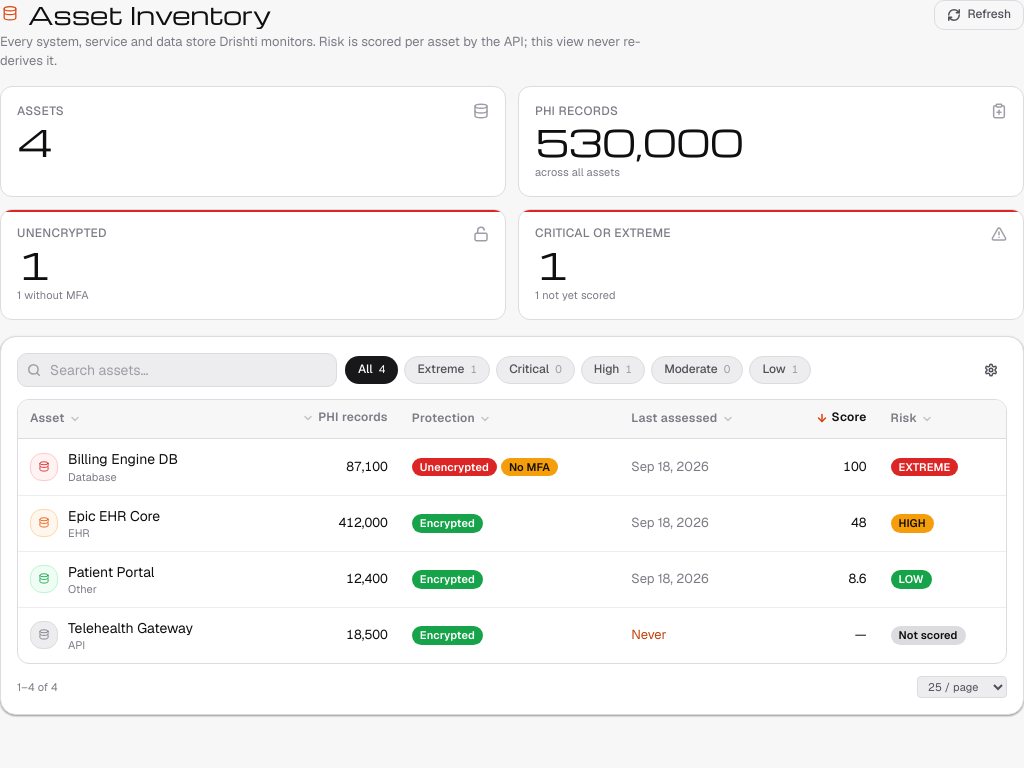
Test: Asset detail › shows the vendors that touch the asset, with their BAA state
The image size is (1024, 768).
Expected: the text "Billing Engine DB" is shown, [68,450,178,470]
Click the button with test id "row-1" at (512, 467), box [18,440,1006,495]
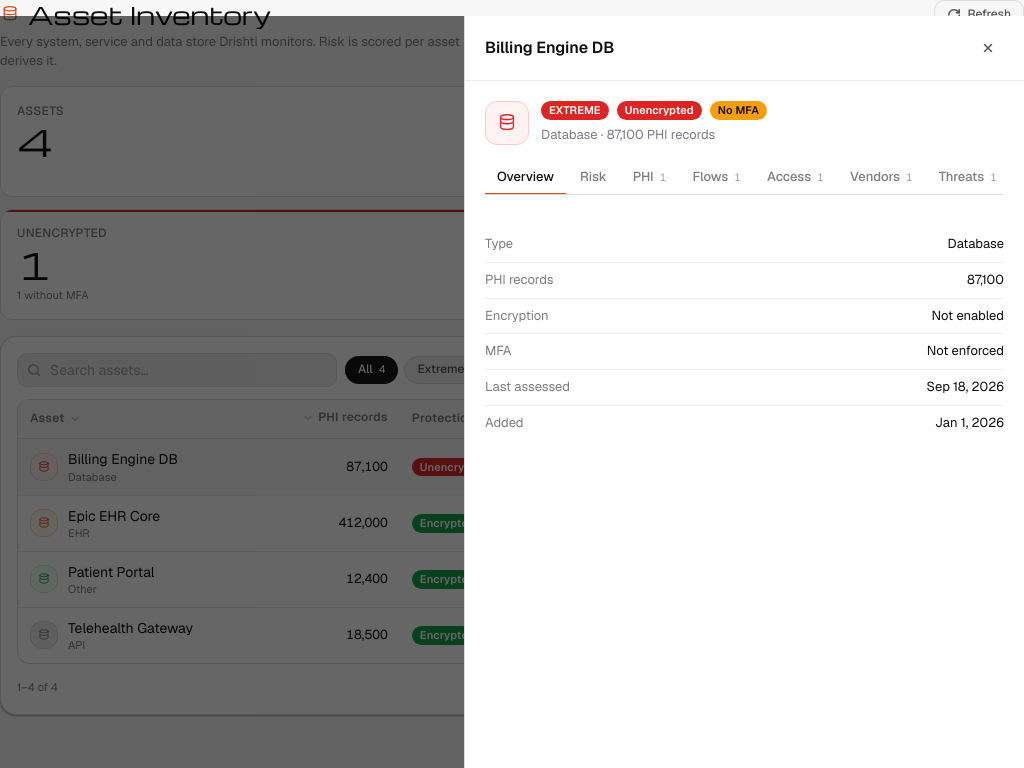
Expected: the tab "Overview" is shown, [485,161,566,194]
Click the tab "Vendors1" at (881, 177), box [838,161,925,194]
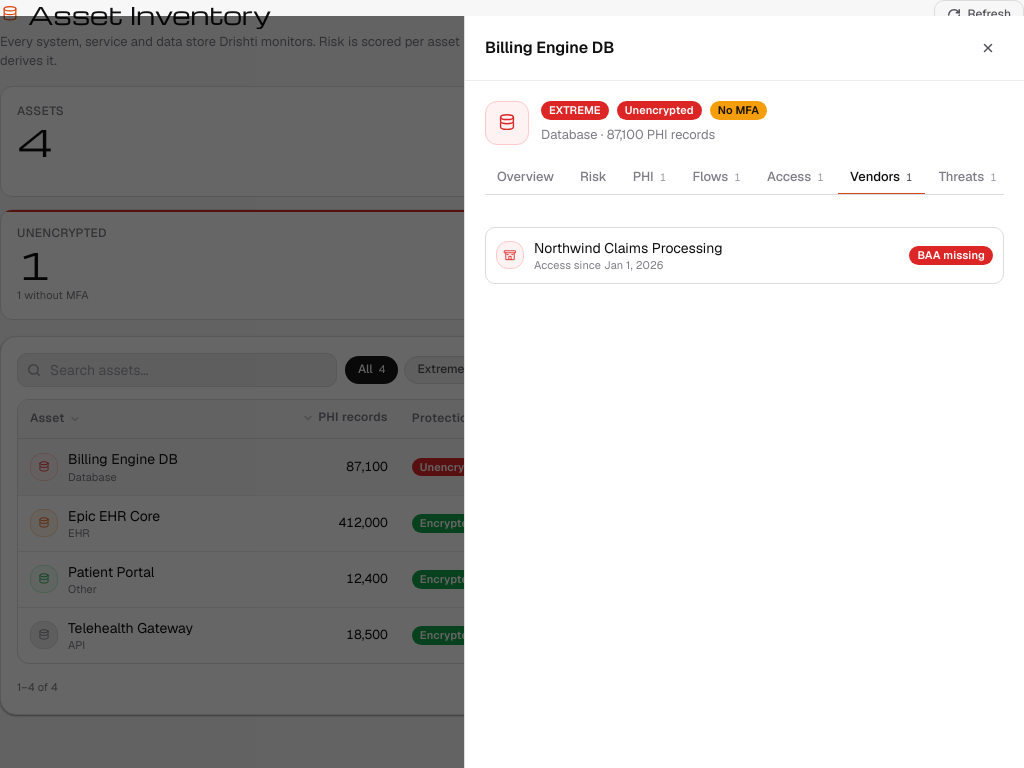
Expected: the text "Northwind Claims Processing" is shown, [534,238,723,258]
Expected: the text "BAA missing" is shown, [909,246,993,265]
